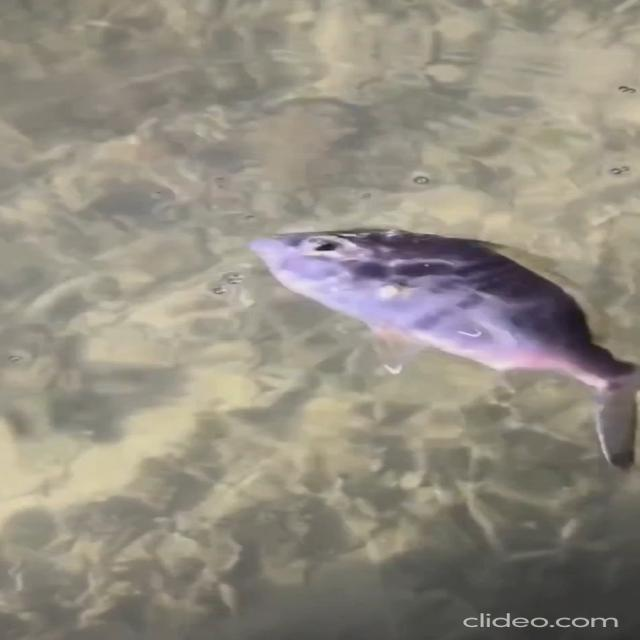fish: (240, 210, 640, 484)
